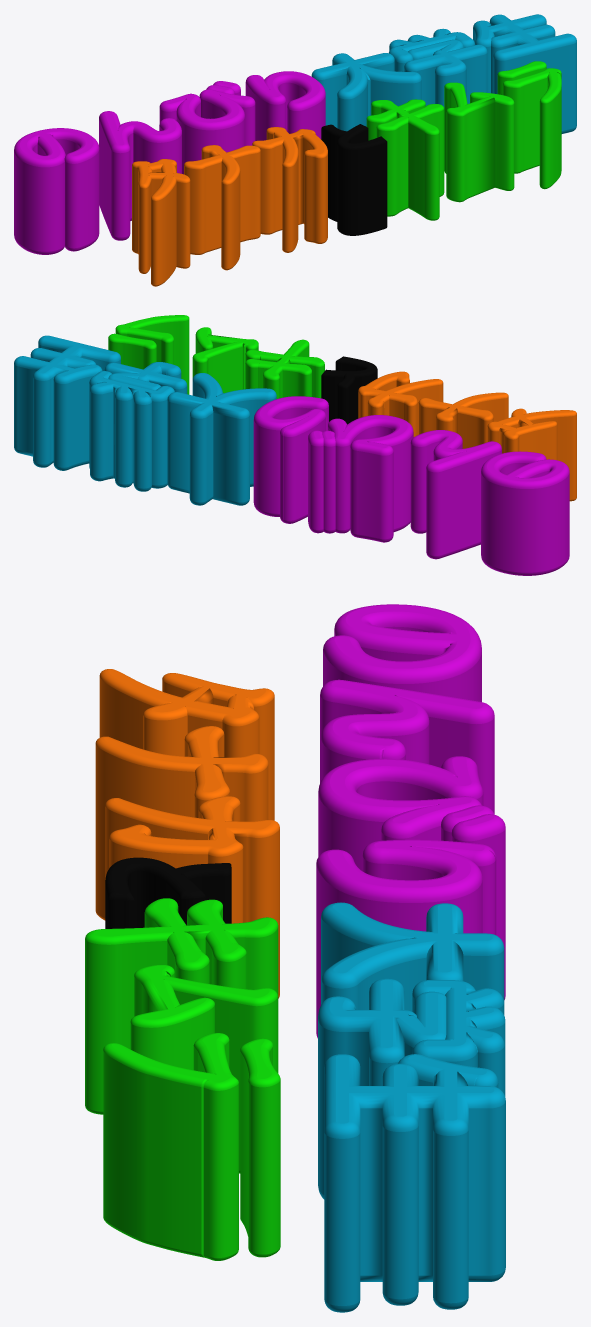
The model's file is opening_obj.fbx.
3 views of the same model, one above another, from view 1: azimuth 30°, elevation 25°; view 2: azimuth 150°, elevation 25°; view 3: azimuth 270°, elevation 25° (orthographic). The views are drawn at different scales.
Parts seen in each view (by area): view 1: Text, Text.002, Text.003, Text.001, Text.004; view 2: Text, Text.001, Text.002, Text.003, Text.004; view 3: Text.001, Text.003, Text, Text.002, Text.004.
Boxes of the visible parts, box(x1,y1,x2,y2) form: Text: box(14, 71, 325, 254); Text.002: box(132, 127, 327, 286); Text.003: box(366, 61, 561, 220); Text.001: box(311, 14, 576, 133); Text.004: box(321, 124, 387, 235); Text: box(253, 396, 569, 575); Text.001: box(14, 335, 276, 505); Text.002: box(358, 371, 576, 501); Text.003: box(108, 315, 324, 398); Text.004: box(321, 356, 377, 424); Text.001: box(318, 902, 505, 1312); Text.003: box(85, 898, 280, 1260); Text: box(316, 604, 505, 1038); Text.002: box(95, 669, 279, 998); Text.004: box(105, 857, 231, 928).
Bounding box in the file's own units: 431 × 73.31 × 146.
